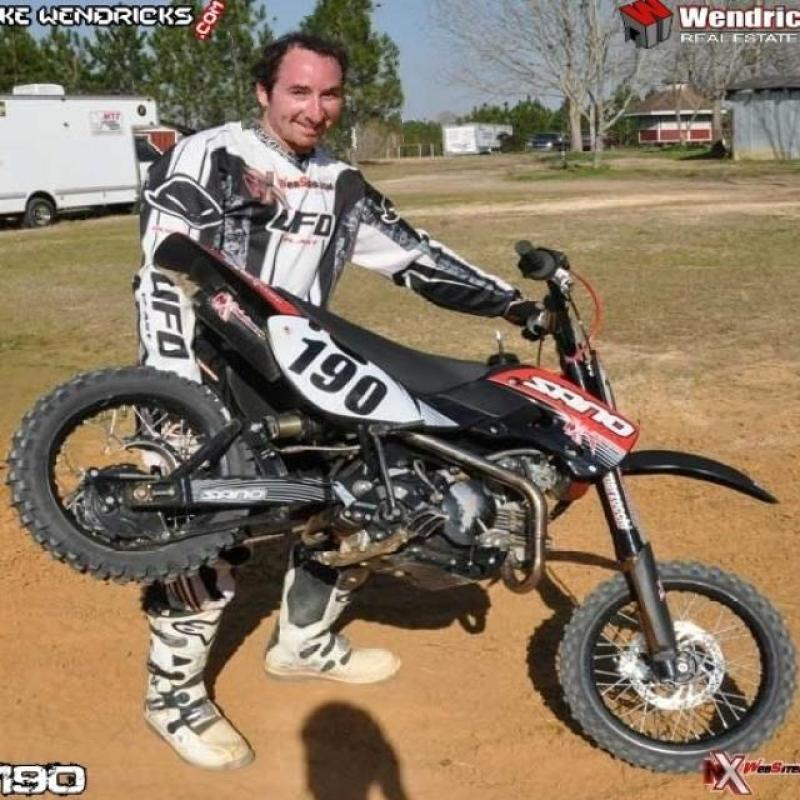nohelmet: (234, 10, 401, 162)
